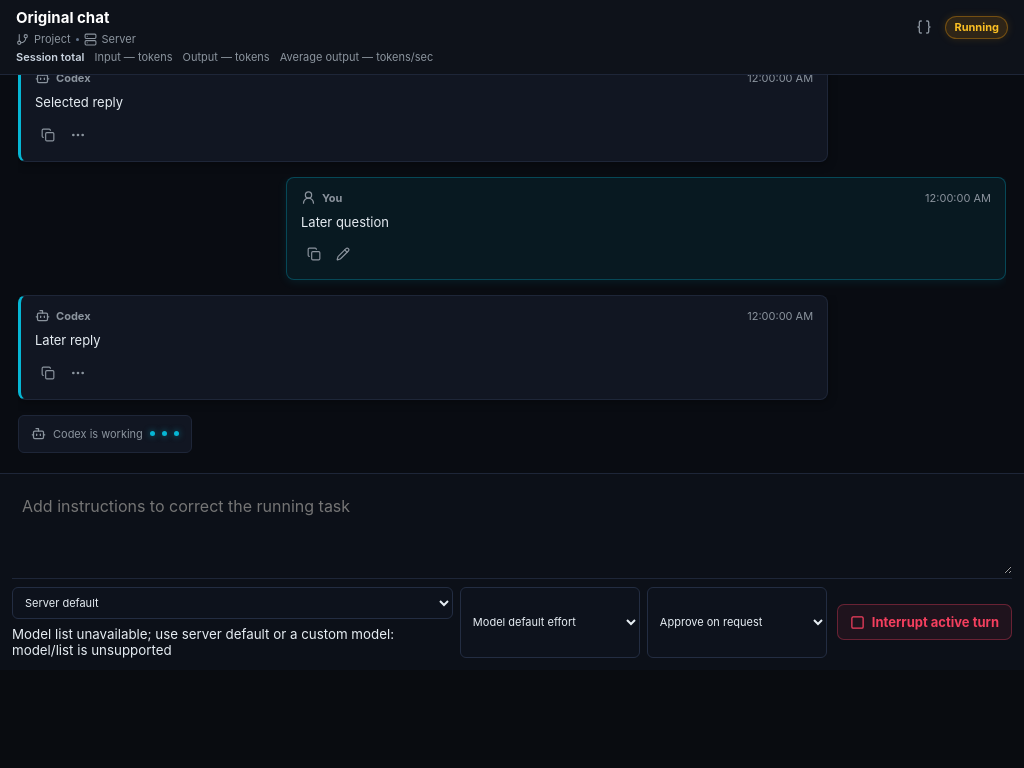
Scenario: offers branching only at finished turn boundaries and disables it while busy
(page scrolled)
Click the button named "Message actions" below "Selected reply" at (78, 135), box [64,121,92,149]
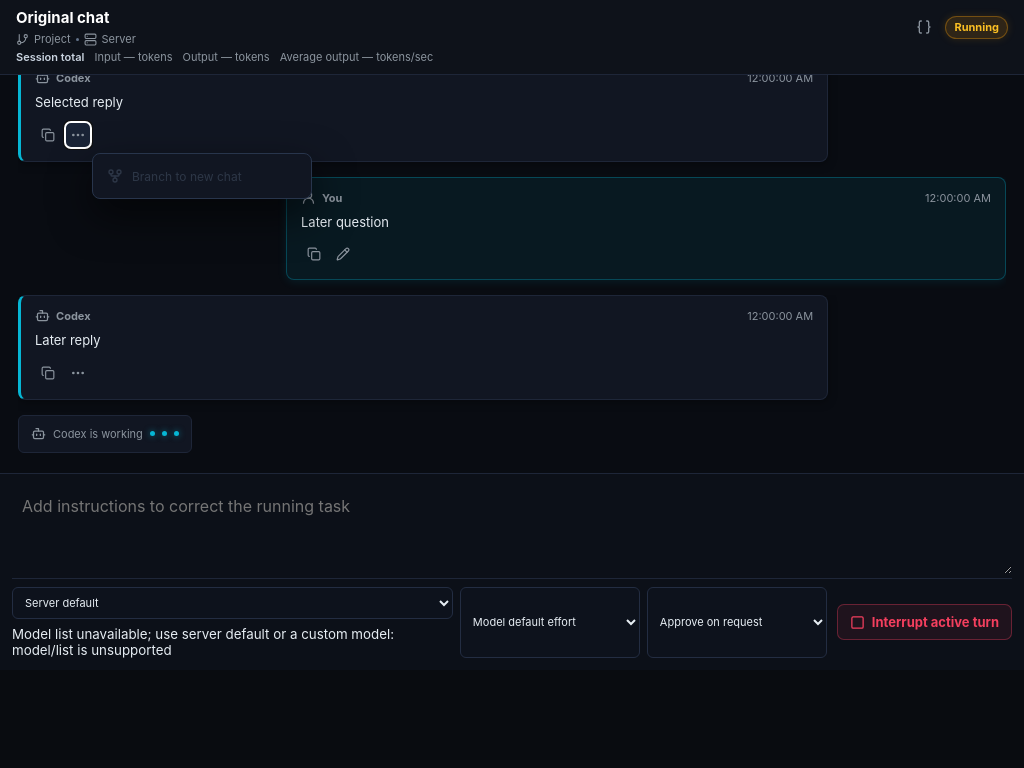
Check: the menu item "Branch to new chat" is disabled, box [98,159,306,193]
Press Escape
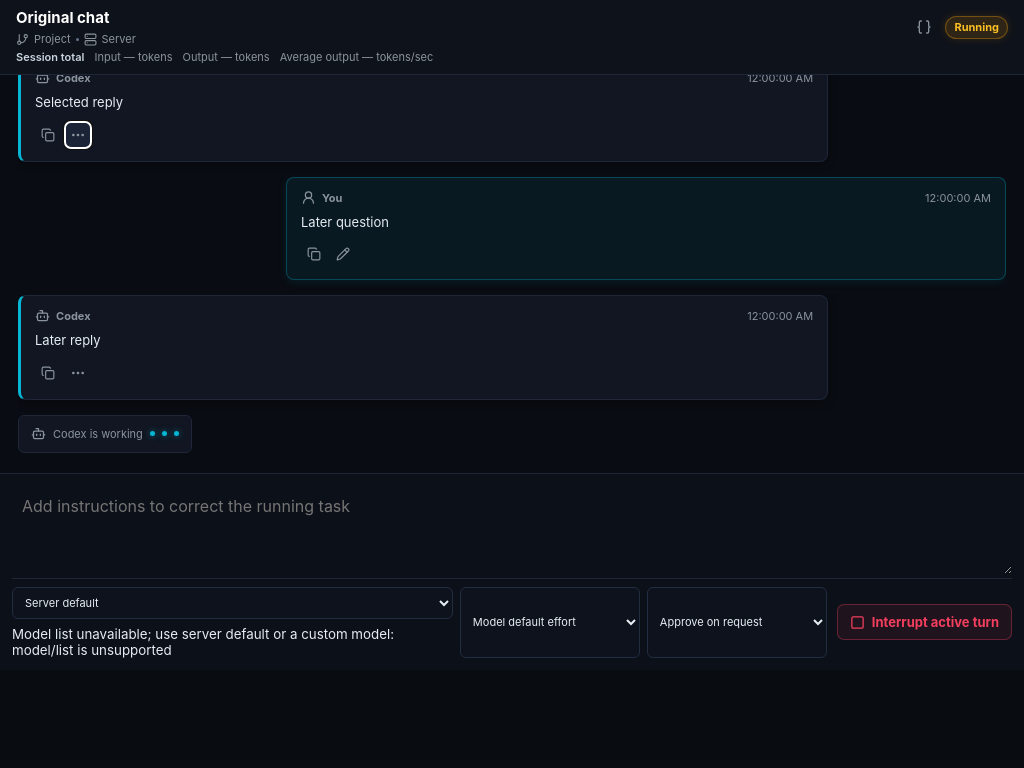
Check: the menu is gone
